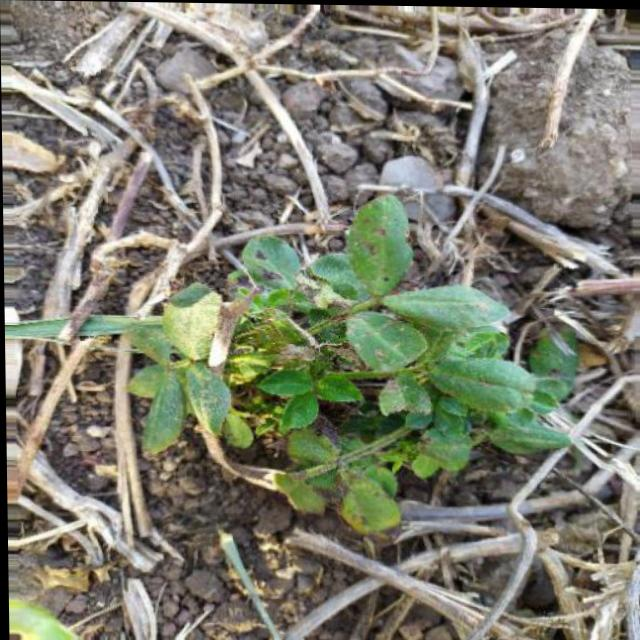weed: (127, 199, 562, 557)
